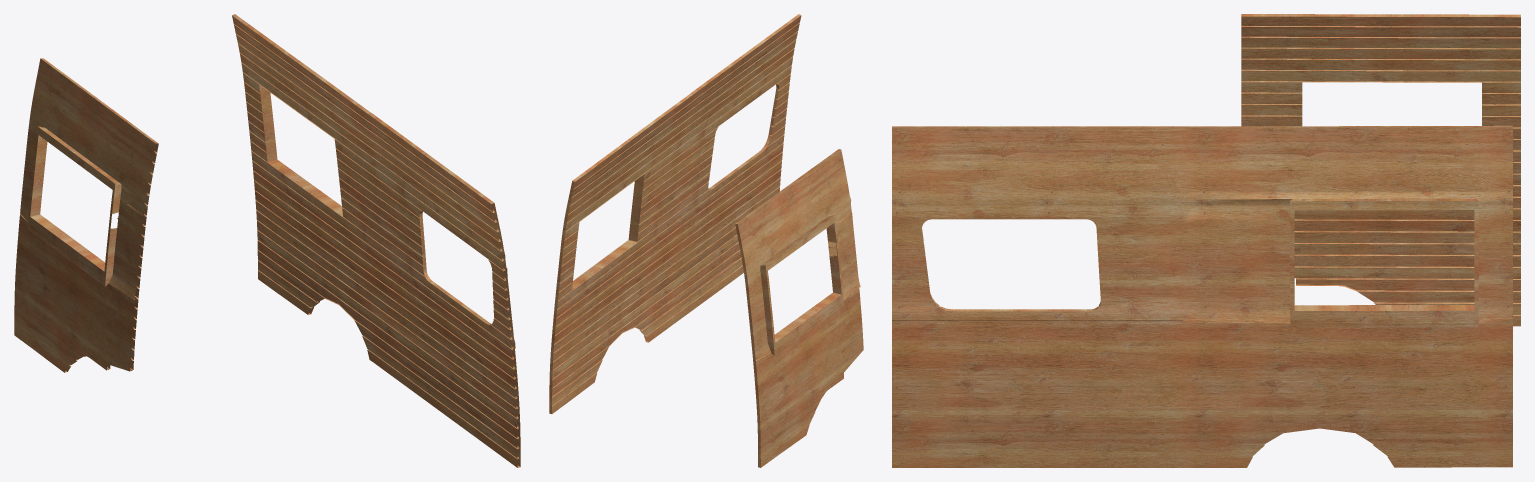
File: wall-panels.glb
3 renders of one model, left to right at view 1: azimuth 30°, elevation 25°; view 2: azimuth 150°, elevation 25°; view 3: azimuth 270°, elevation 25°, orthographic. The views are drawn at different scales.
Visible parts, largest first — view 1: wall, wall.001; view 2: wall, wall.001; view 3: wall, wall.001.
Part boxes in pixels (x1,y1,x2,y2): wall: (232,14,520,467); wall.001: (14,58,158,372); wall: (549,14,801,413); wall.001: (735,149,863,467); wall: (892,125,1512,467); wall.001: (1241,14,1520,326).
Bounding box in the file's own units: 1.8 × 1.89 × 3.3.
Materials: 2 (2 with a texture image).
